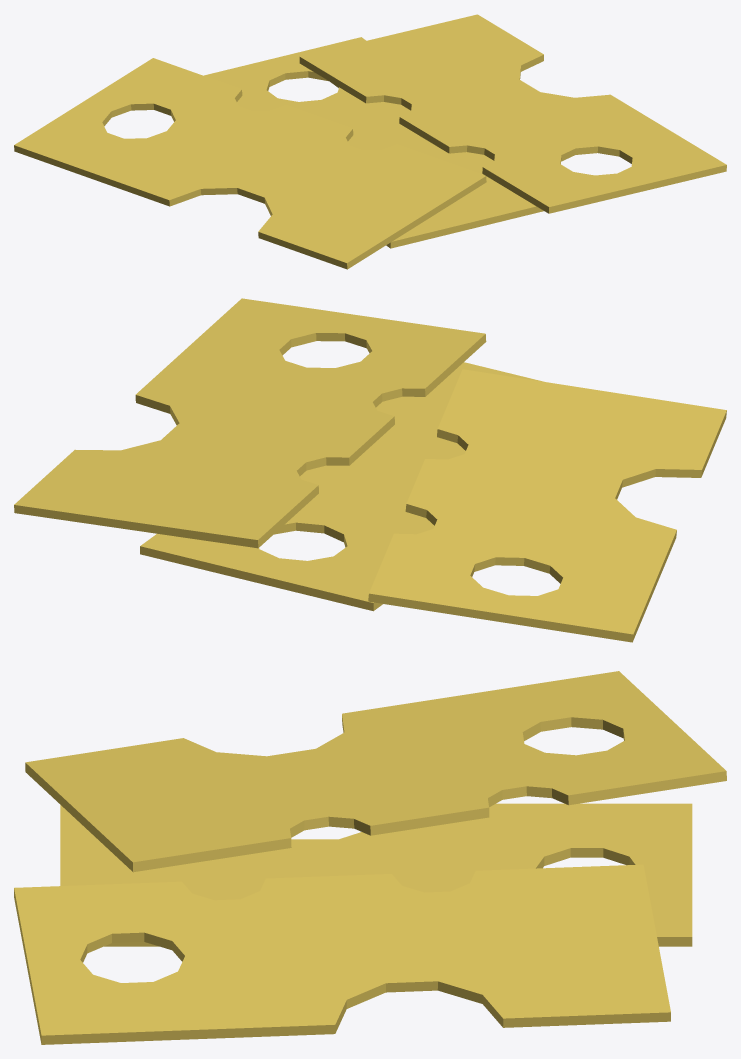
Rendered from Cheese_Slices.fbx.
3 views of the same model, one above another, from view 1: azimuth 30°, elevation 25°; view 2: azimuth 150°, elevation 25°; view 3: azimuth 270°, elevation 25° (orthographic). The views are drawn at different scales.
Parts seen in each view (by area): view 1: Slice_2, Slice_3, Slice_1; view 2: Slice_2, Slice_3, Slice_1; view 3: Slice_3, Slice_2, Slice_1.
Part boxes in pixels (x1,y1,x2,y2): Slice_2: [14, 58, 486, 269]; Slice_3: [299, 14, 726, 213]; Slice_1: [204, 37, 543, 248]; Slice_2: [368, 369, 726, 642]; Slice_3: [14, 298, 486, 548]; Slice_1: [140, 362, 542, 611]; Slice_3: [14, 864, 670, 1044]; Slice_2: [25, 671, 726, 872]; Slice_1: [60, 803, 692, 946].
Size of the model in its own units: 0.8197 by 0.038 by 0.677.
